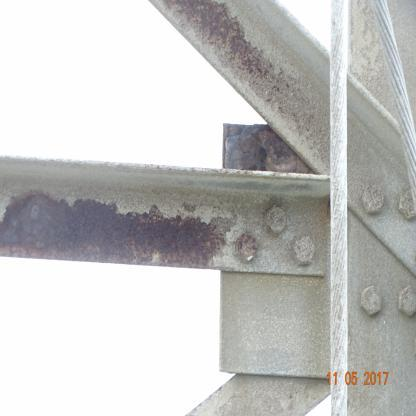Grado3: (7, 185, 217, 274), (226, 120, 294, 178)
